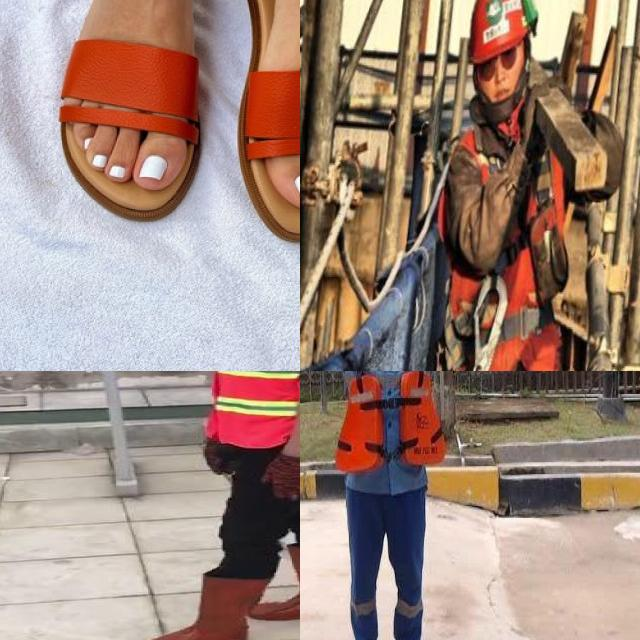Harness: (473, 276, 508, 371)
Sandals: (56, 0, 207, 225), (214, 0, 300, 245)
boots: (135, 573, 268, 640), (263, 546, 300, 622)
hand_glove: (263, 455, 300, 501), (200, 446, 238, 476)
person: (300, 371, 585, 640), (132, 371, 300, 640)
vest: (335, 371, 447, 471), (206, 371, 300, 446)
